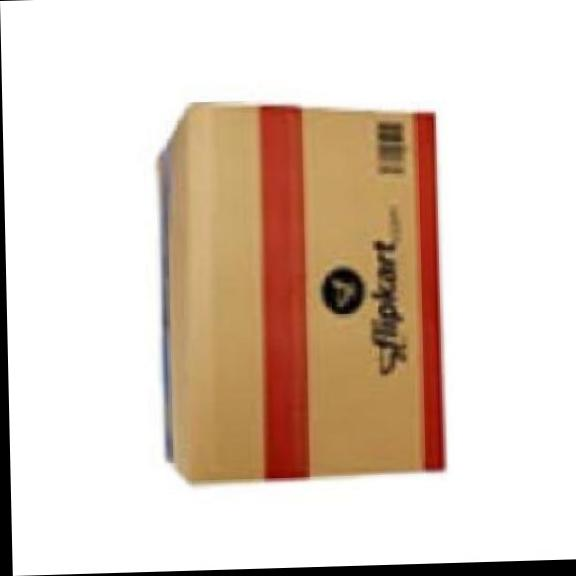Kertas: (158, 104, 442, 481)
